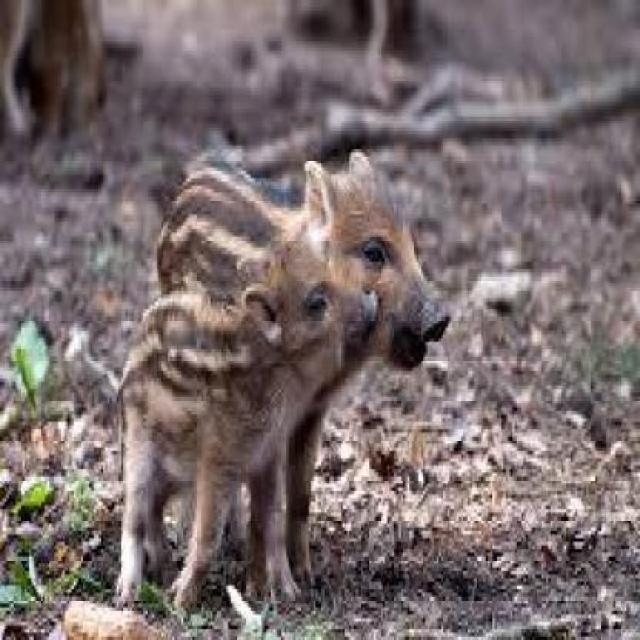wildboar: (143, 137, 451, 585), (99, 228, 384, 604)
